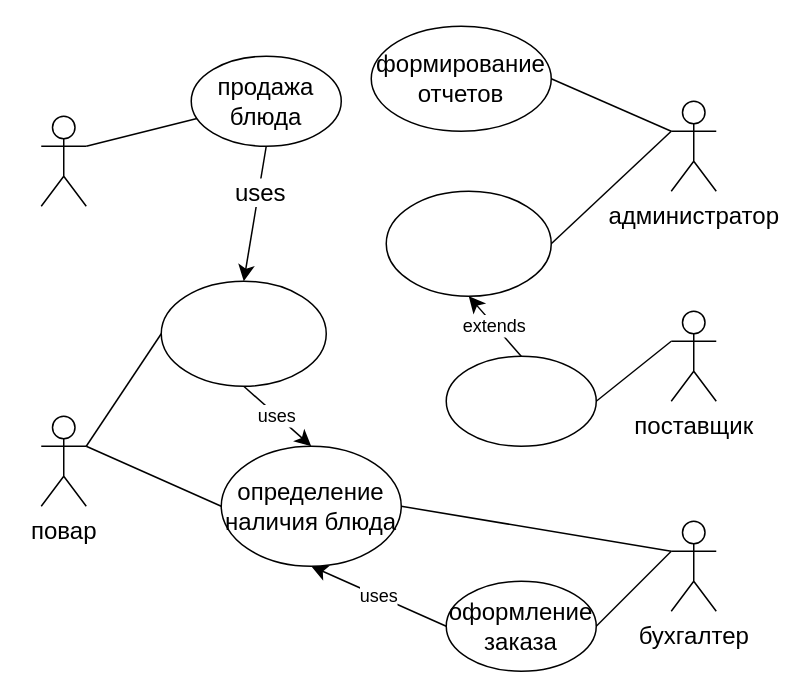
This 806x698 diagram has some shape labels left out. Here are the shapes that lost their labels. From the top down, the centre of each, then its label:
point (63, 160): клиент
point (468, 243): оформление приходных документов
point (243, 333): оформление блюда
point (520, 400): продажа продуктов
